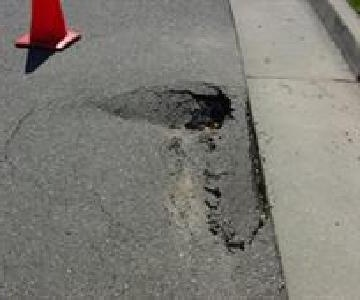pothole: (200, 83, 274, 254), (96, 83, 236, 132)
